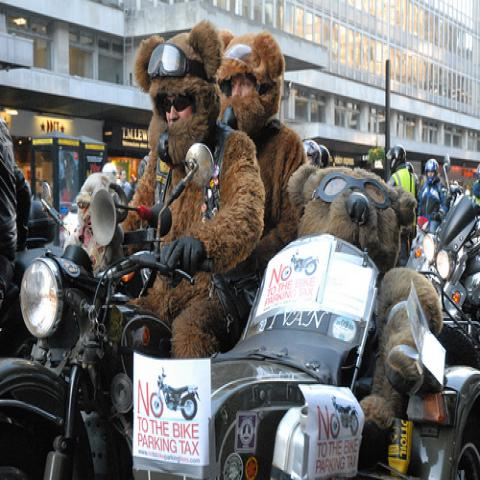motorcycle: (134, 235, 479, 479), (0, 142, 215, 469), (418, 154, 480, 358), (410, 215, 432, 253)
